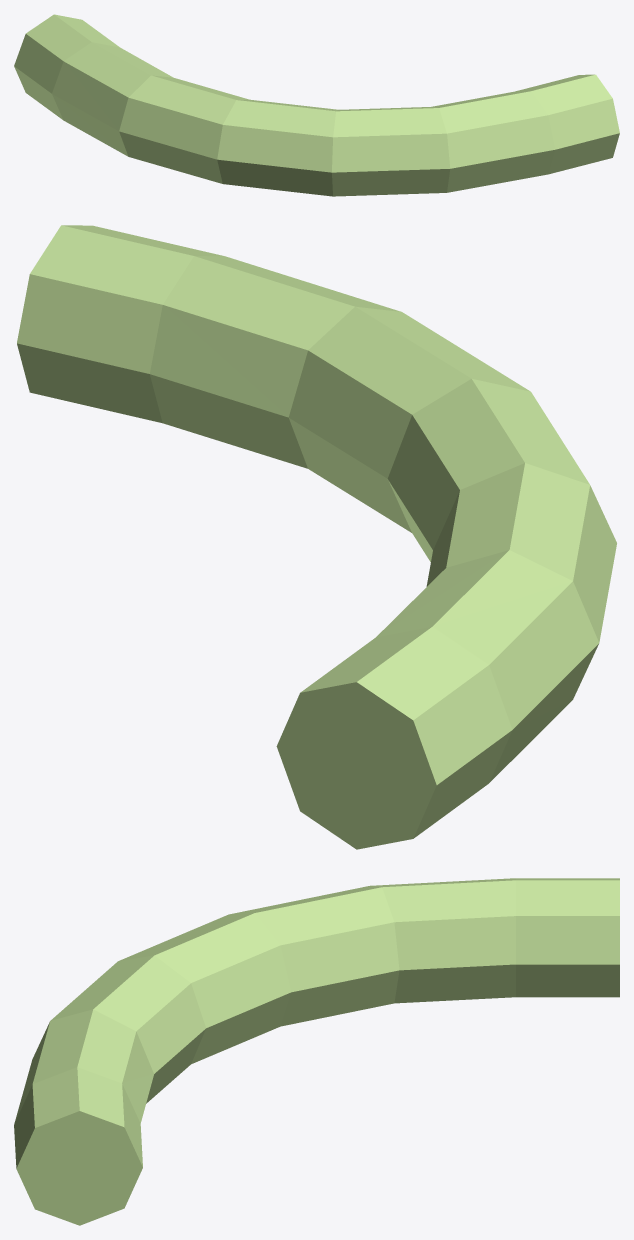
Rendered from trumpet2_1.fbx.
3 views of the same model, one above another, from view 1: azimuth 30°, elevation 25°; view 2: azimuth 150°, elevation 25°; view 3: azimuth 270°, elevation 25° (orthographic). The views are drawn at different scales.
Visible parts, largest first — view 1: Cylinder_4; view 2: Cylinder_4; view 3: Cylinder_4.
Part boxes in pixels (x1,y1,x2,y2): Cylinder_4: [14, 14, 619, 196]; Cylinder_4: [17, 225, 616, 849]; Cylinder_4: [14, 878, 619, 1225].
Bounding box in the file's own units: 146 × 30.3 × 145.
